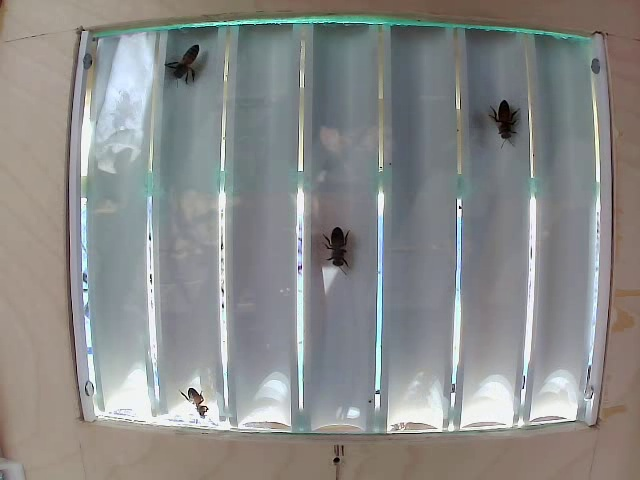bee: (302, 212, 354, 279), (159, 37, 200, 87), (476, 98, 521, 143)
